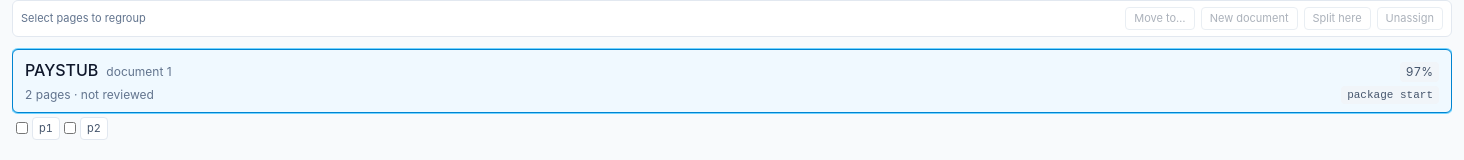
Test: DocumentList — select and act › counts the selection as checkboxes are toggled
Click the checkbox named "Select page 1".
click(22, 128)  # box top-left (16, 122), bottom-right (28, 134)
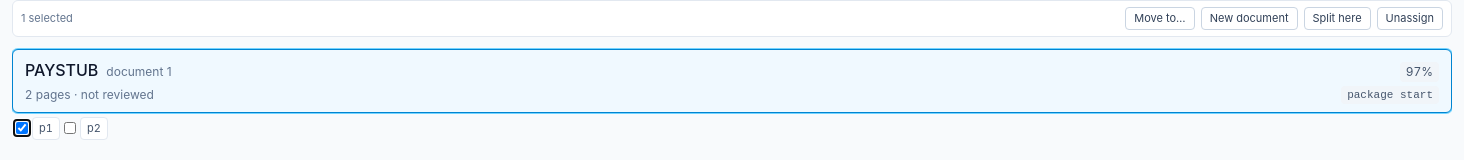
Click the checkbox named "Select page 2".
click(70, 128)  # box top-left (64, 122), bottom-right (76, 134)
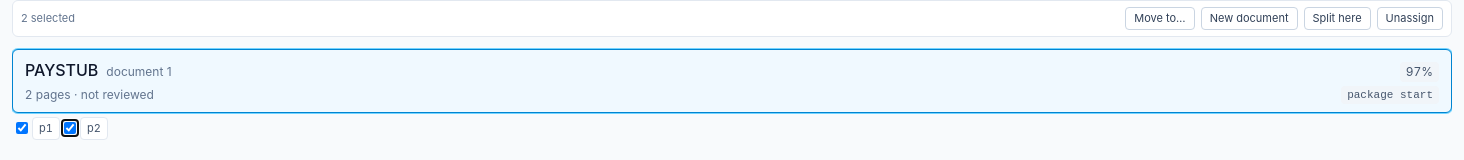
Expected: the text with test id "regroup-selection-count" shows "2", top-left (21, 11), bottom-right (75, 25)
Click the checkbox named "Select page 1".
click(22, 128)  # box top-left (16, 122), bottom-right (28, 134)
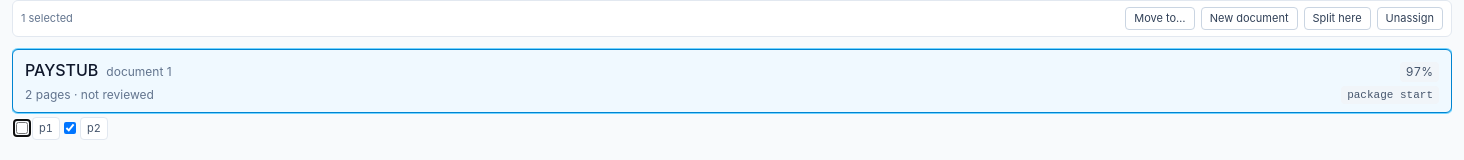
Expected: the text with test id "regroup-selection-count" shows "1", top-left (21, 11), bottom-right (73, 25)
